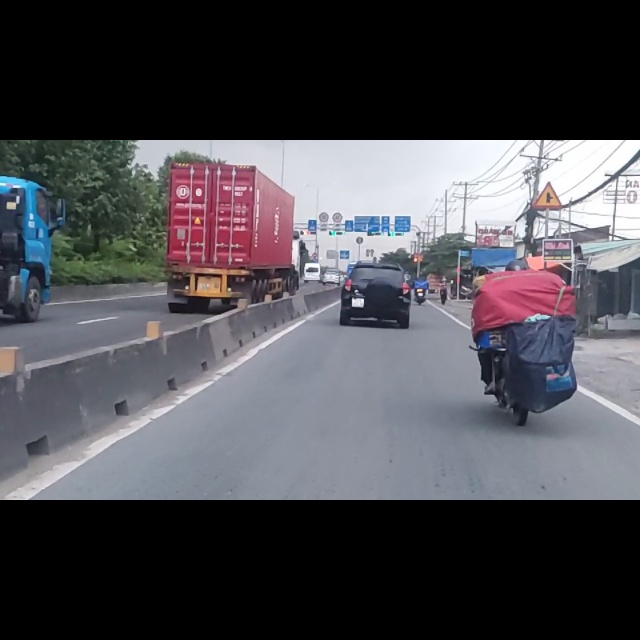bien_cam: (531, 71, 563, 124)
